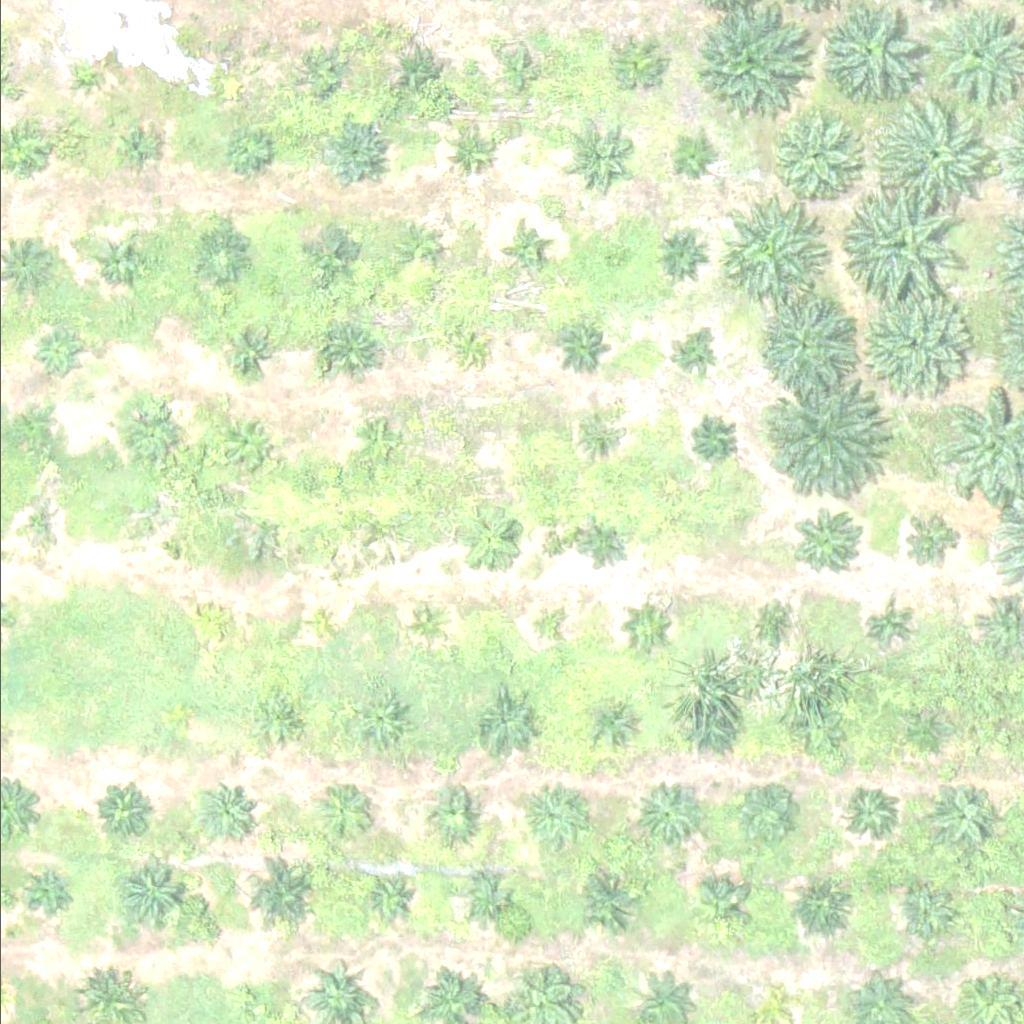Kelapa_Sawit: (837, 185, 963, 310), (871, 93, 997, 218), (757, 381, 882, 506), (687, 2, 801, 115), (856, 282, 969, 395), (706, 191, 819, 303), (757, 292, 858, 392), (763, 106, 864, 206), (235, 851, 323, 938), (726, 773, 802, 848), (117, 854, 192, 929), (791, 505, 866, 580), (311, 777, 374, 840), (518, 782, 581, 845), (194, 780, 257, 843), (558, 123, 621, 186), (604, 29, 667, 92), (120, 396, 183, 459), (475, 695, 538, 758), (322, 125, 385, 188), (345, 691, 408, 754), (675, 696, 738, 759), (791, 875, 854, 938), (487, 40, 550, 103), (634, 781, 697, 843), (91, 778, 154, 840), (574, 871, 637, 933), (318, 320, 381, 382), (217, 414, 280, 476), (932, 782, 995, 844), (457, 510, 520, 572), (195, 232, 246, 282), (583, 700, 634, 750), (313, 230, 364, 280), (391, 50, 442, 100), (898, 519, 949, 569), (789, 707, 840, 757), (448, 126, 499, 176), (297, 51, 348, 101), (224, 127, 275, 177), (224, 325, 275, 375), (9, 499, 60, 549), (11, 411, 62, 461), (34, 329, 85, 379), (92, 237, 143, 287), (425, 789, 475, 839), (16, 861, 66, 911), (695, 881, 745, 931), (656, 230, 706, 280), (558, 324, 608, 374), (257, 694, 307, 744), (843, 789, 893, 839), (902, 883, 952, 933), (579, 520, 629, 570), (354, 420, 404, 470), (394, 223, 444, 273), (661, 131, 711, 181), (108, 122, 158, 172), (363, 870, 414, 919), (626, 614, 664, 652), (698, 421, 736, 459), (909, 714, 947, 752), (525, 607, 563, 645), (406, 605, 444, 643), (299, 607, 337, 645), (199, 603, 237, 641), (452, 329, 490, 367), (507, 232, 545, 270), (672, 338, 710, 375), (467, 880, 505, 917), (574, 415, 612, 452), (445, 427, 483, 464), (147, 510, 185, 547), (865, 605, 902, 642), (755, 609, 792, 646), (759, 997, 784, 1022), (232, 987, 257, 1012), (76, 59, 101, 84)
